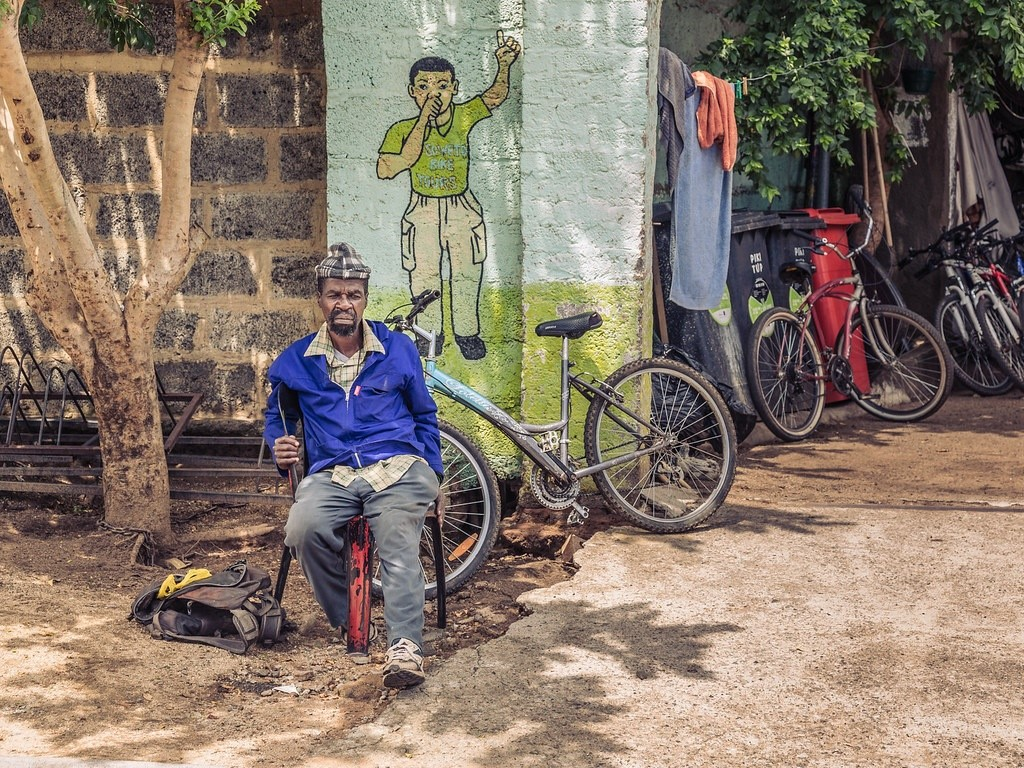face_no_mask: (318, 255, 368, 339)
